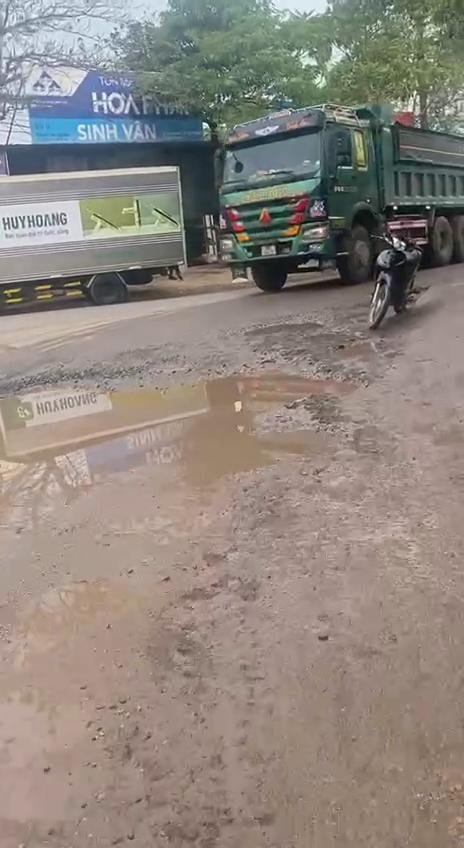pothole: (0, 321, 393, 515)
